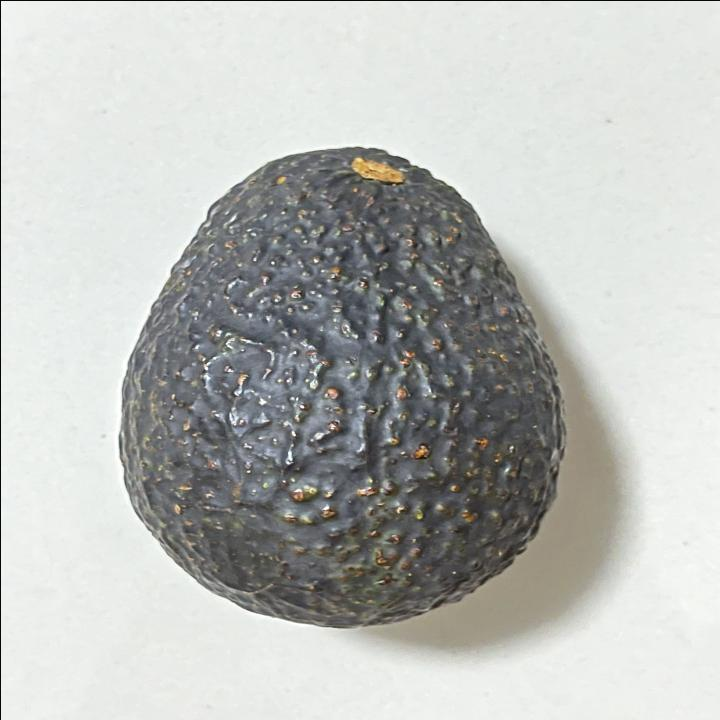Level1: (101, 134, 577, 636)
